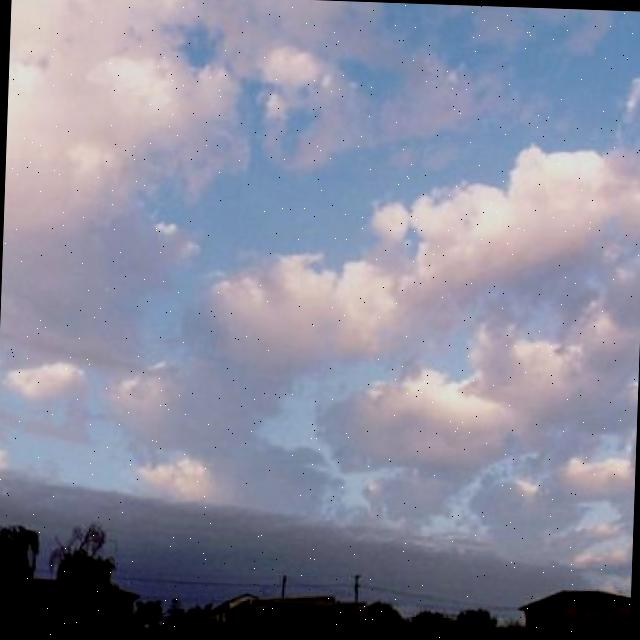Sc: (1, 17, 640, 475)
